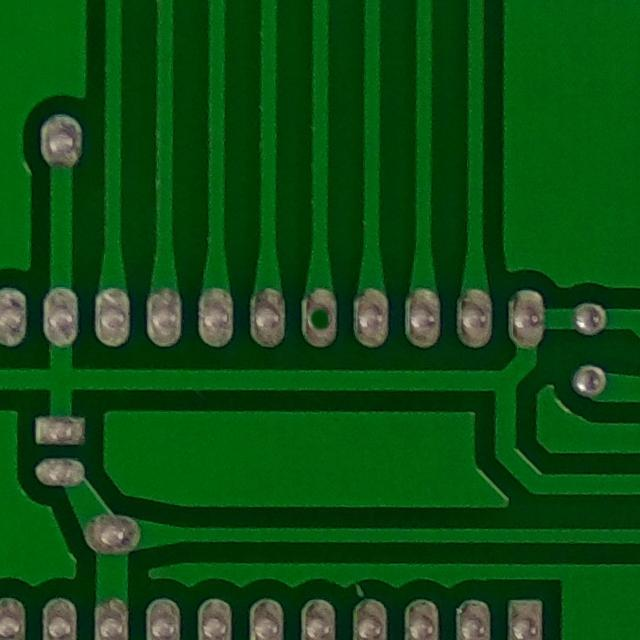missing_hole: (292, 287, 349, 353)
